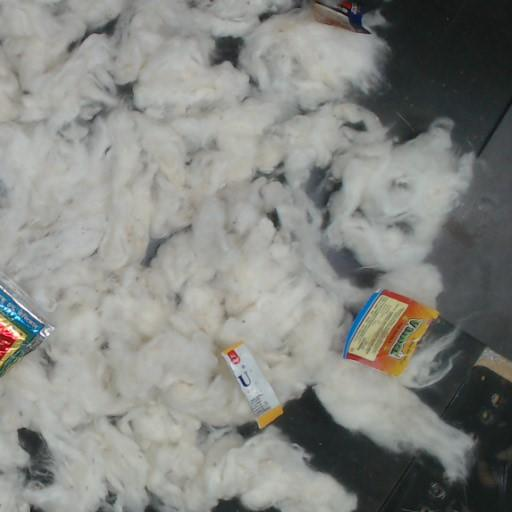packet: (344, 290, 441, 376), (0, 275, 53, 375), (222, 343, 282, 428)
